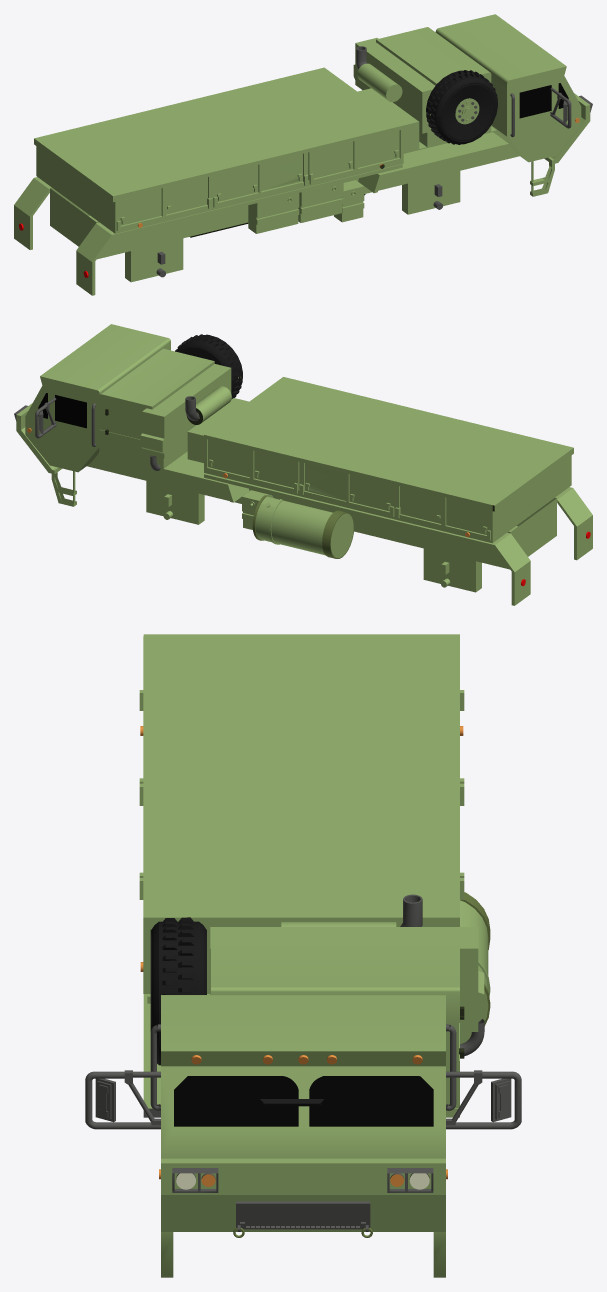
File: body_dynamic.dae
The picture shows the model from 3 angles, top to bottom: view 1: azimuth 30°, elevation 25°; view 2: azimuth 150°, elevation 25°; view 3: azimuth 270°, elevation 25°; orthographic projection. The views are drawn at different scales.
Visible parts, largest first — view 1: SketchUp_033; view 2: SketchUp_033; view 3: SketchUp_033.
Boxes of the visible parts, bbox=[...] form: SketchUp_033: bbox=[14, 14, 592, 295]; SketchUp_033: bbox=[14, 324, 592, 605]; SketchUp_033: bbox=[85, 634, 521, 1277].
Size of the model in its own units: 11.96 by 4.45 by 3.08.
